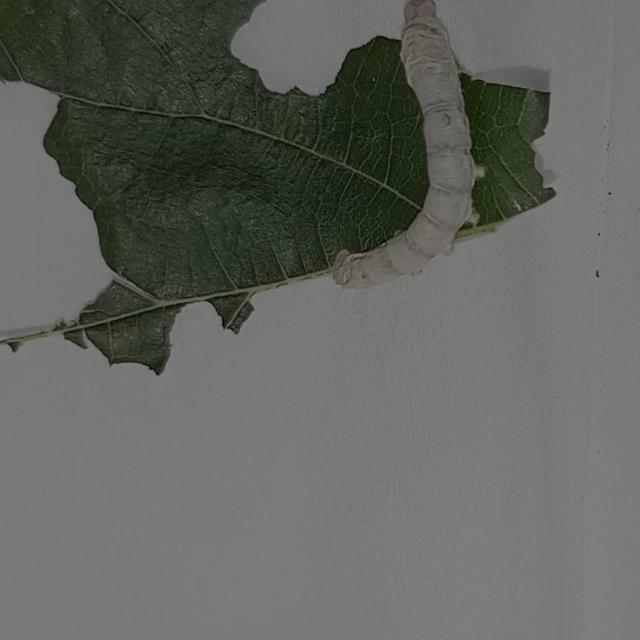Healthy: (326, 0, 497, 295)
